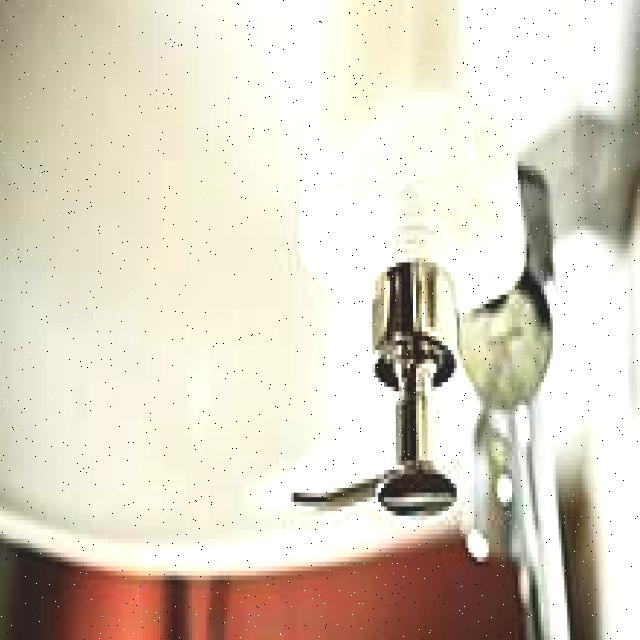liquid soap: (276, 0, 526, 534)
